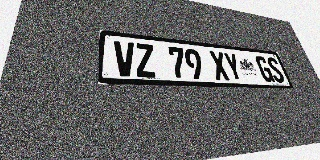7: (167, 46, 189, 79)
9: (183, 48, 206, 80)
G: (254, 56, 275, 82)
S: (265, 57, 286, 83)
V: (114, 41, 136, 77)
X: (209, 51, 231, 81)
Y: (223, 52, 244, 81)
Z: (134, 43, 157, 78)
